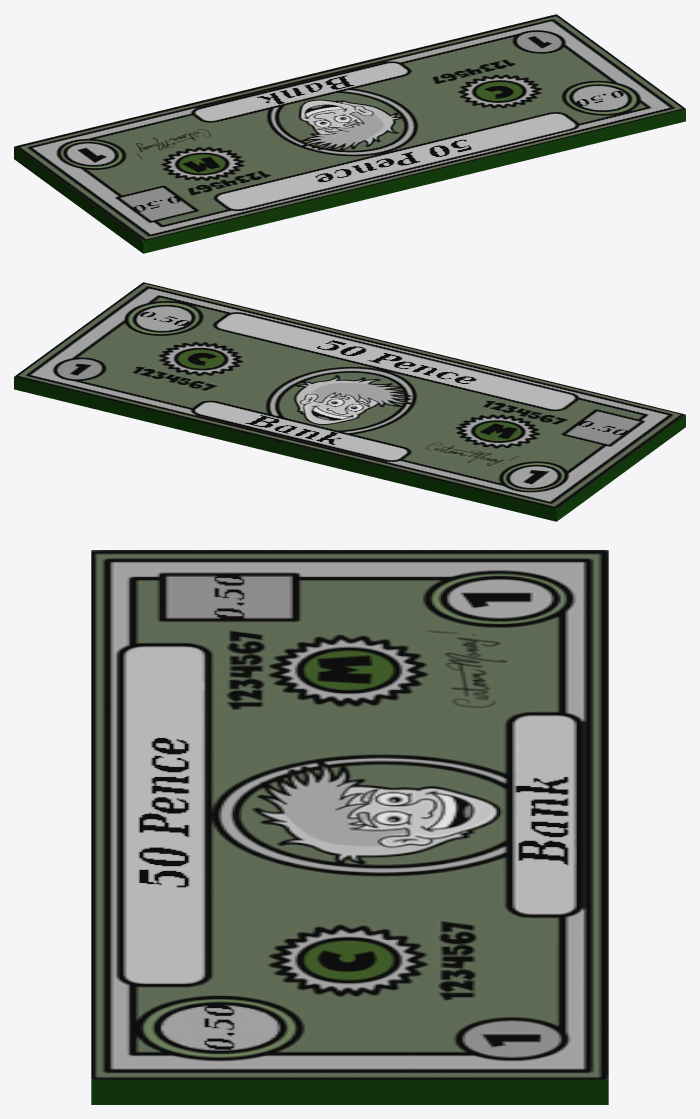
Rendered from Note50p.fbx.
3 views of the same model, one above another, from view 1: azimuth 30°, elevation 25°; view 2: azimuth 150°, elevation 25°; view 3: azimuth 270°, elevation 25° (orthographic). The views are drawn at different scales.
Visible parts, largest first — view 1: Cube; view 2: Cube; view 3: Cube.
Boxes of the visible parts, bbox=[...] form: Cube: bbox=[14, 14, 685, 253]; Cube: bbox=[14, 282, 685, 521]; Cube: bbox=[91, 550, 608, 1104].
Size of the model in its own units: 10.26 by 0.2274 by 4.24.
